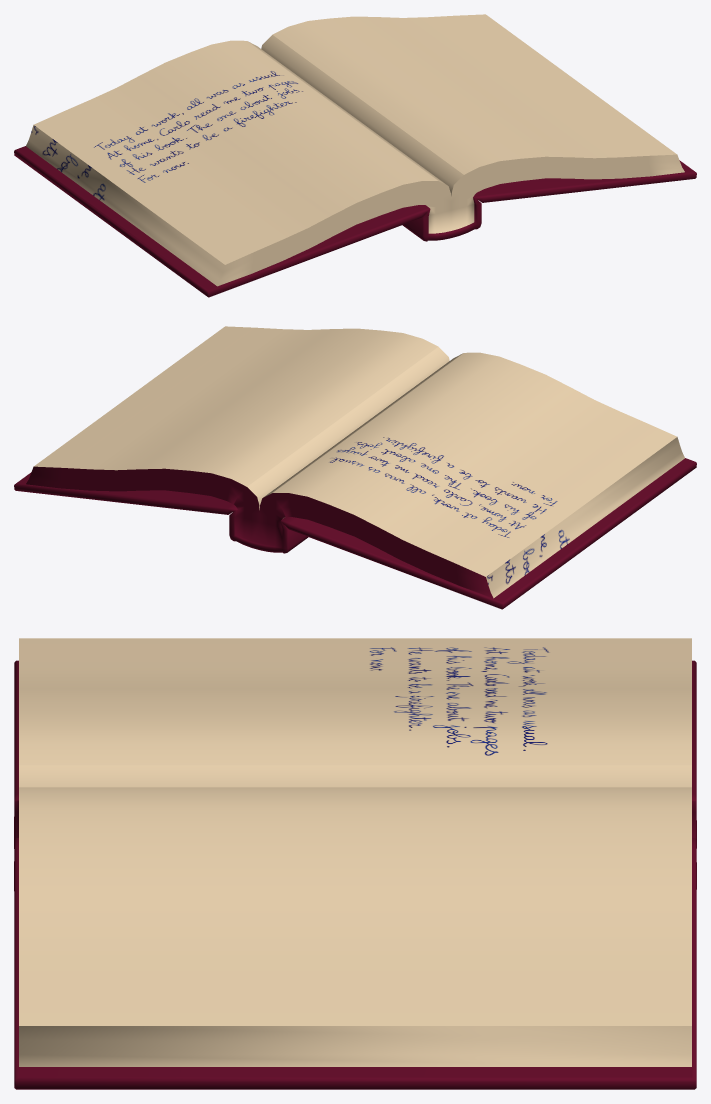
Rendered from diario_past_eng.glb.
3 renders of one model, top to bottom at view 1: azimuth 30°, elevation 25°; view 2: azimuth 150°, elevation 25°; view 3: azimuth 270°, elevation 25°, orthographic. The views are drawn at different scales.
Visible parts, largest first — view 1: diario-past-eng; view 2: diario-past-eng; view 3: diario-past-eng.
Boxes of the visible parts, x1,y1,x2,y2 form: diario-past-eng: (14, 14, 696, 297); diario-past-eng: (14, 326, 696, 609); diario-past-eng: (14, 638, 696, 1089).
Bounding box in the file's own units: 1.25 × 0.1611 × 0.8617.
2 materials, 1 textured.
